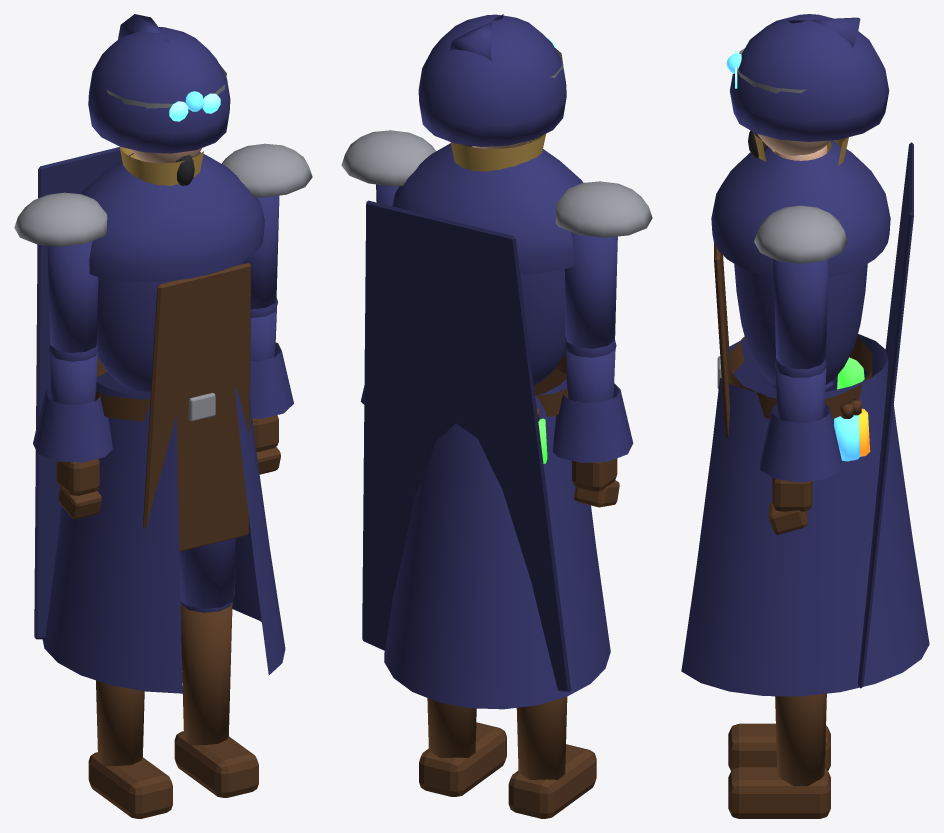
Rendered from hero_alchemist.glb.
The picture shows the model from 3 angles, left to right: view 1: azimuth 30°, elevation 25°; view 2: azimuth 150°, elevation 25°; view 3: azimuth 270°, elevation 25°; orthographic projection. The views are drawn at different scales.
Parts seen in each view (by area): view 1: robeskirt, apron, mantle, hood, cape, shin, chest, upperarm.001, sleeve.001, pauldron.001, boot, boot.001 (+15 smaller); view 2: cape, robeskirt, hood, mantle, upperarm.001, sleeve.001, pauldron.001, chest, pauldron, shin.001, boot.001, boot (+7 smaller); view 3: robeskirt, hood, mantle, chest, upperarm, cape, sleeve, boot, shin, pauldron, boot.001, forearm (+10 smaller).
Part boxes in pixels (box(x1,y1,x2,y2)): robeskirt: box(42, 382, 285, 693); apron: box(143, 263, 250, 551); mantle: box(81, 152, 264, 282); hood: box(88, 27, 230, 153); cape: box(34, 147, 150, 639); shin: box(180, 602, 232, 745); chest: box(97, 260, 244, 391); upperarm.001: box(47, 241, 98, 352); sleeve.001: box(33, 386, 112, 462); pauldron.001: box(14, 192, 107, 246); boot: box(174, 731, 258, 797); boot.001: box(88, 752, 172, 818); cape: box(362, 200, 570, 691); robeskirt: box(384, 378, 610, 709); hood: box(418, 14, 566, 146); mantle: box(392, 141, 583, 274); upperarm.001: box(564, 232, 617, 348); sleeve.001: box(552, 383, 633, 462); pauldron.001: box(555, 181, 652, 237); chest: box(520, 269, 565, 385); pauldron: box(341, 130, 435, 186); shin.001: box(516, 696, 567, 779); boot.001: box(508, 744, 596, 818); boot: box(419, 722, 506, 796); robeskirt: box(681, 334, 929, 696); hood: box(730, 14, 889, 141); mantle: box(711, 140, 890, 277); chest: box(734, 152, 867, 384); upperarm: box(773, 259, 828, 368); cape: box(858, 142, 913, 688); sleeve: box(760, 404, 841, 482); boot: box(728, 767, 830, 818); shin: box(775, 693, 826, 785); pauldron: box(754, 205, 847, 263); boot.001: box(728, 723, 830, 770); forearm: box(775, 368, 826, 422).
Bounding box in the file's own units: 0.802 × 2 × 0.5821.
